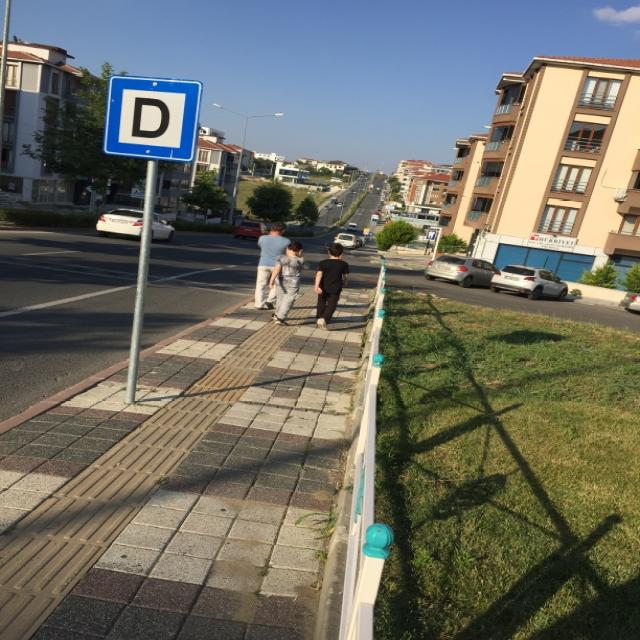durak: (102, 76, 204, 162)
